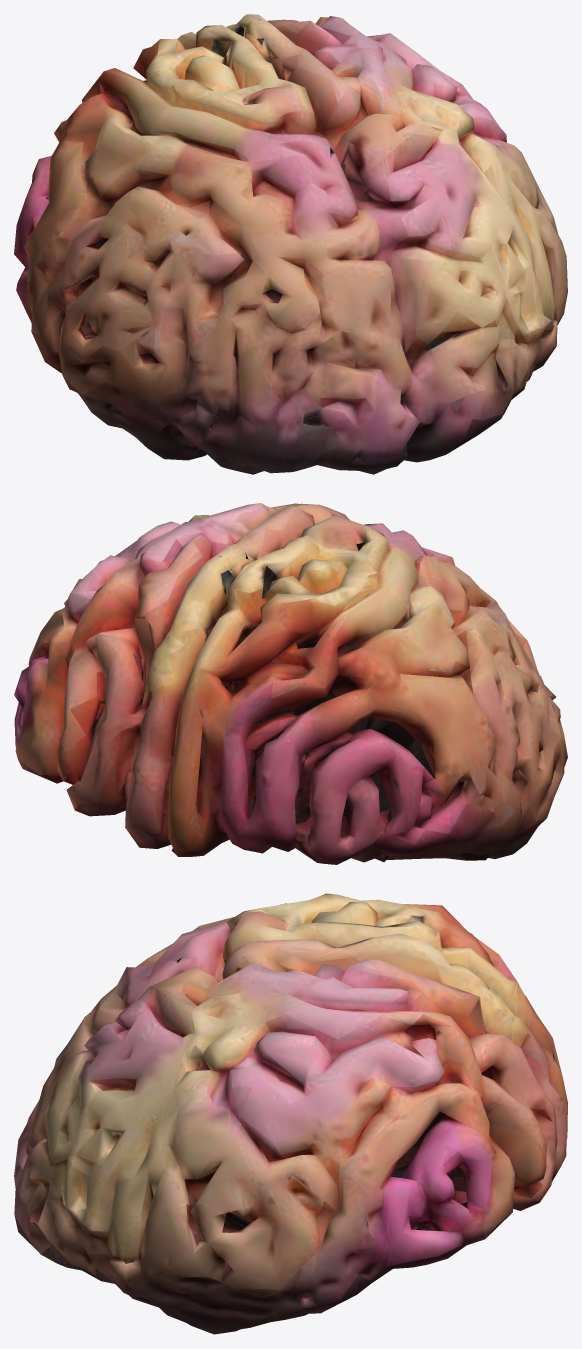
File: brain.glb
3 renders of one model, top to bottom at view 1: azimuth 30°, elevation 25°; view 2: azimuth 150°, elevation 25°; view 3: azimuth 270°, elevation 25°, orthographic.
Parts seen in each view (by area): view 1: low; view 2: low; view 3: low.
Part boxes in pixels (box(x1,y1,x2,y2)): low: box(14, 14, 567, 474); low: box(14, 503, 567, 864); low: box(14, 893, 567, 1334).
Bounding box in the file's own units: 2.99 × 2 × 2.99.
Materials: 1 (1 with a texture image).
